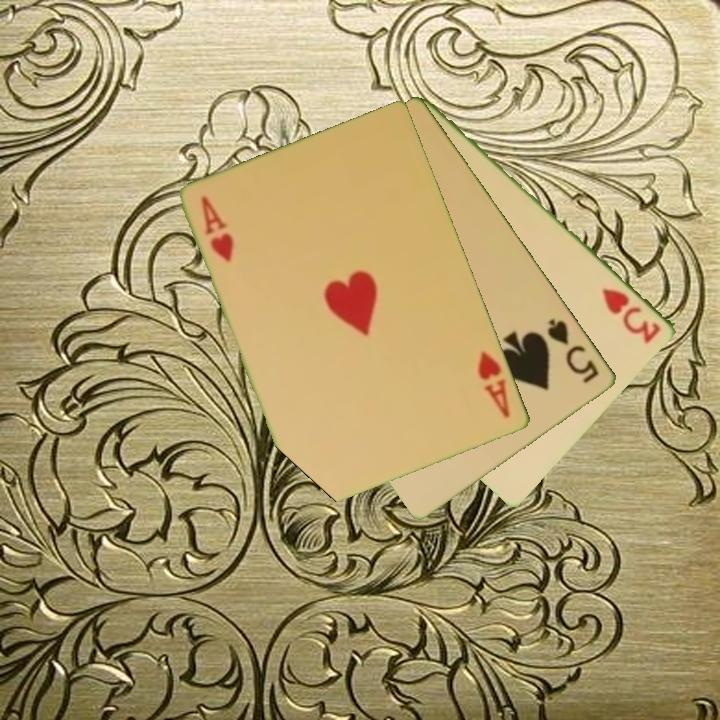3h: (599, 284, 664, 347)
5s: (544, 315, 603, 387)
Ah: (474, 348, 514, 421), (198, 192, 237, 265)
